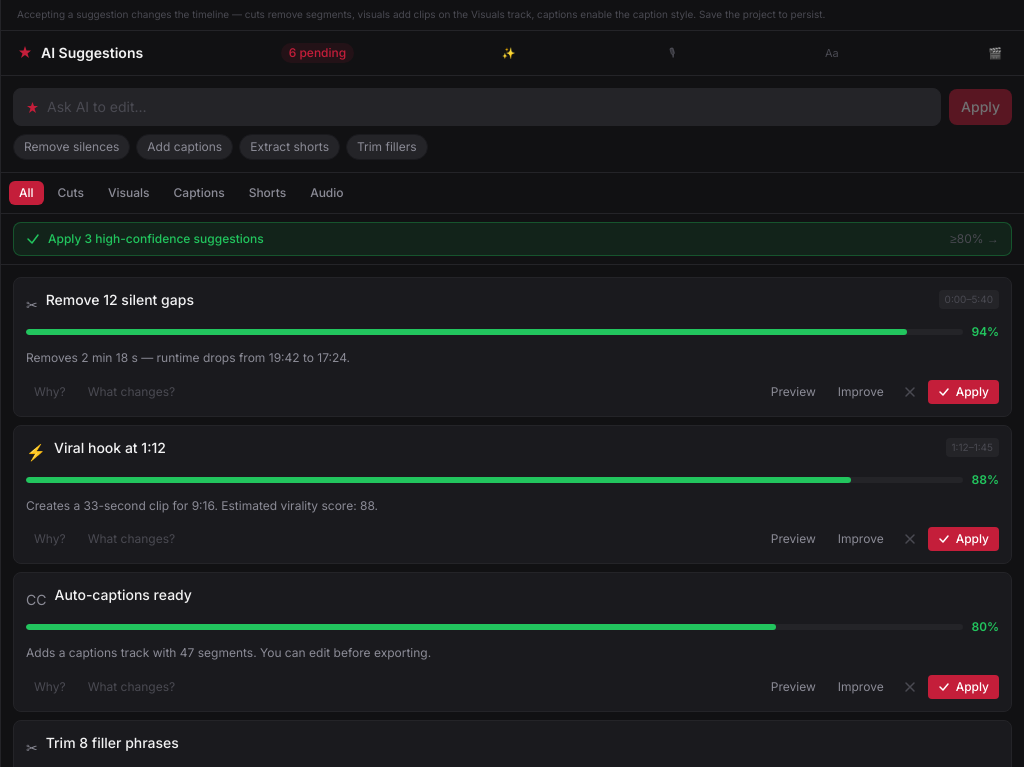
Test: AIPanel — expandable sections › clicking "What changes?" reveals the diff section
Click the button with test id "diff-toggle-s1" at (131, 392), box x1=80 y1=380 x2=183 y2=404
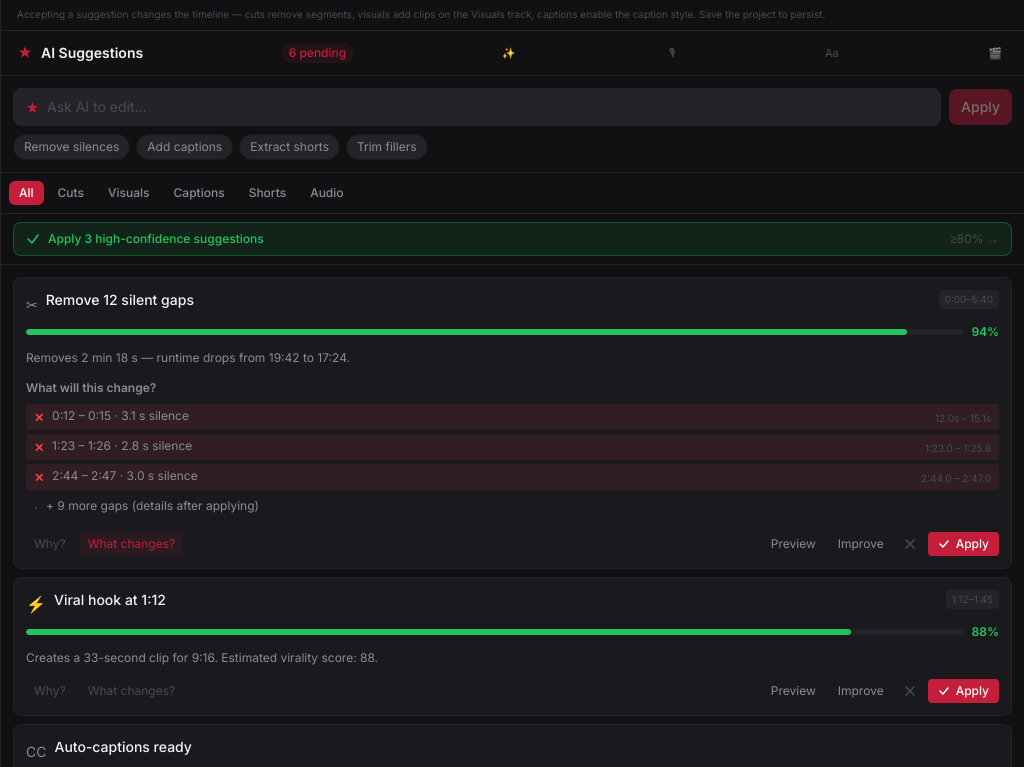
Check: the element with test id "diff-section-s1" is shown, box x1=26 y1=380 x2=999 y2=520
